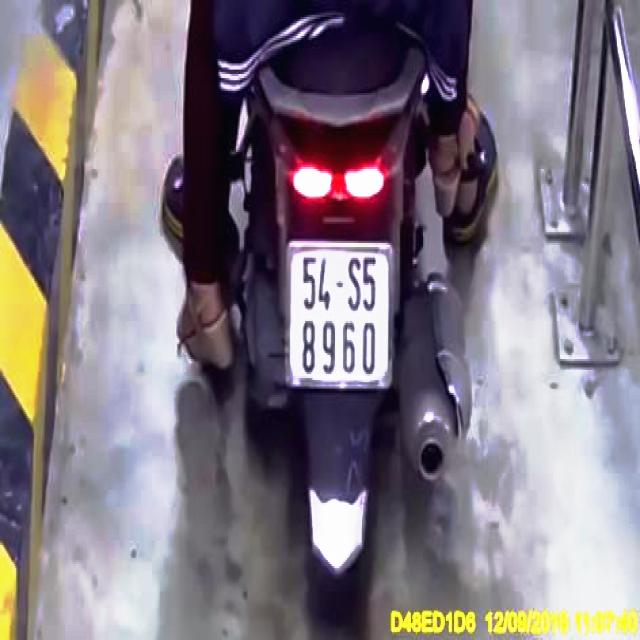license_plate: (288, 247, 395, 385)
